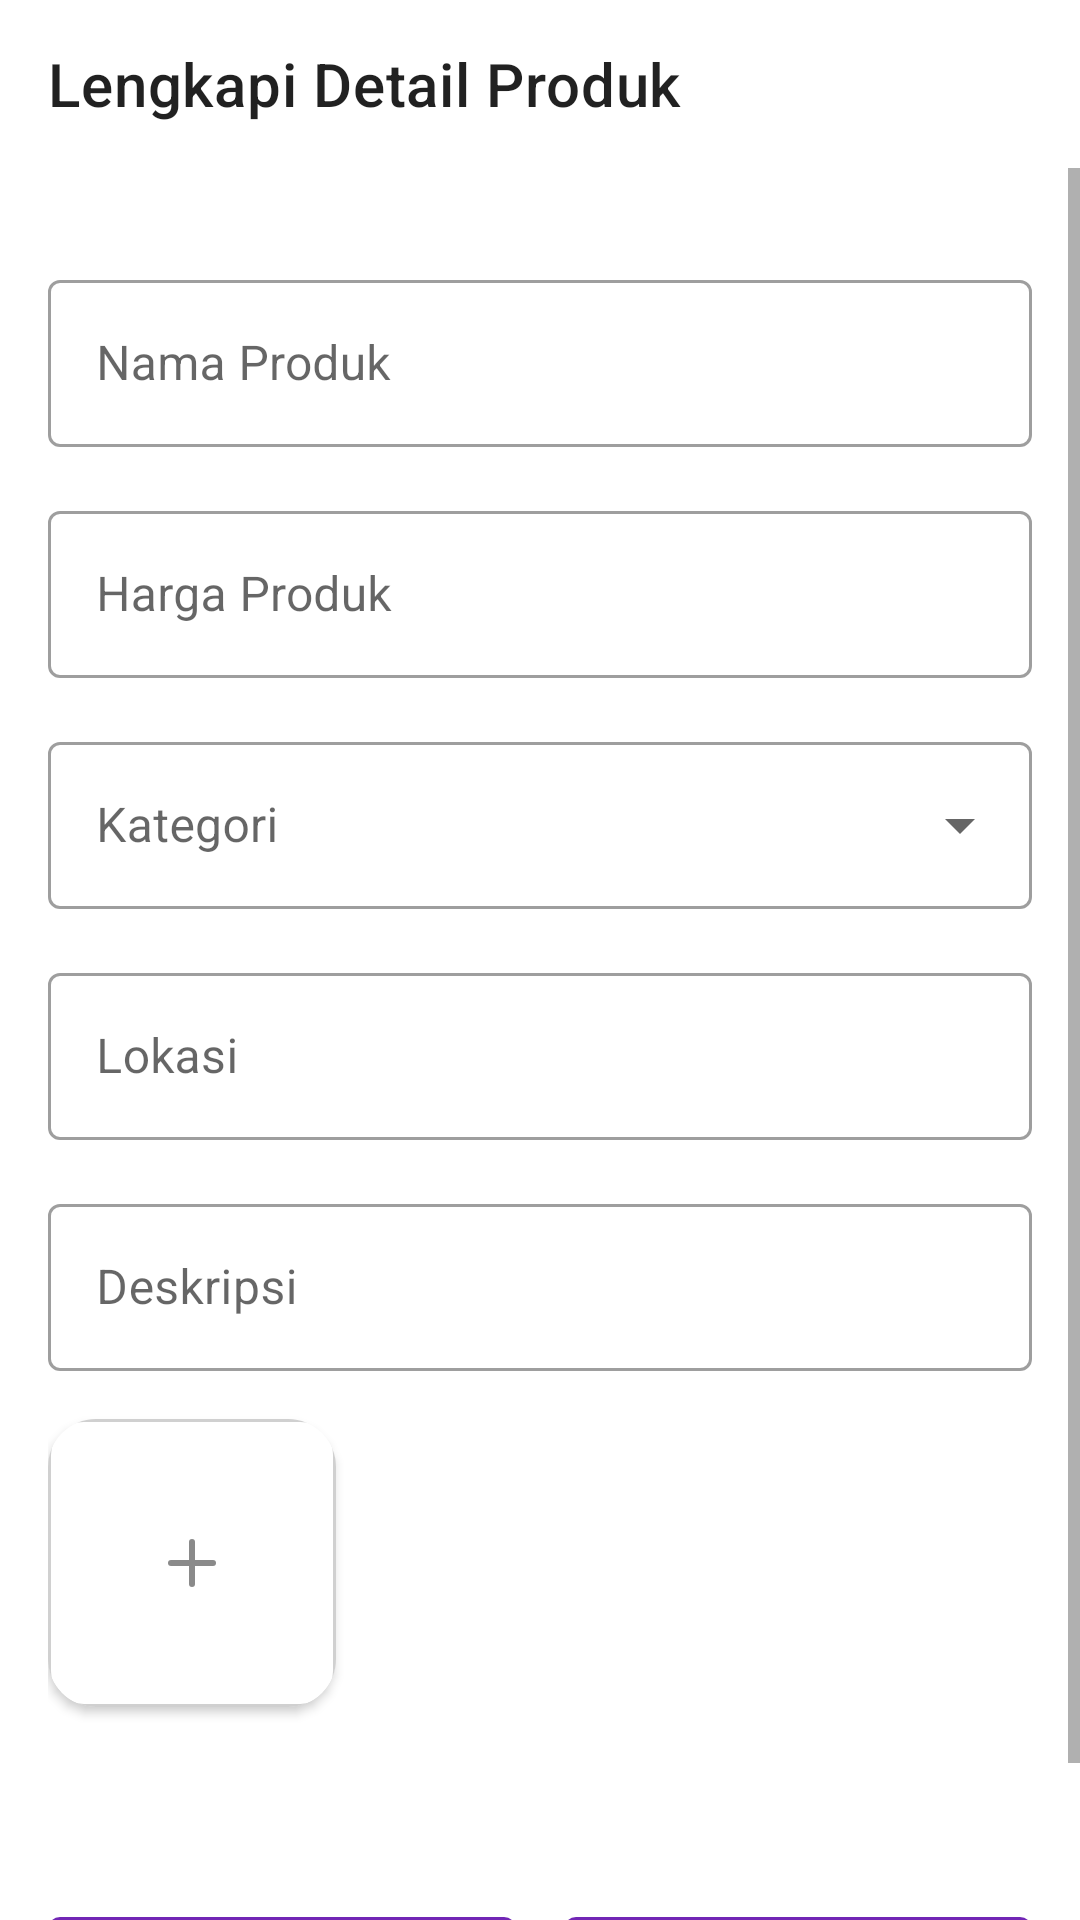

Icons on this 1080px x 1920px Android screen, each with the point to tap as (x=x, y=y):
add foto: (x=192, y=1563)
